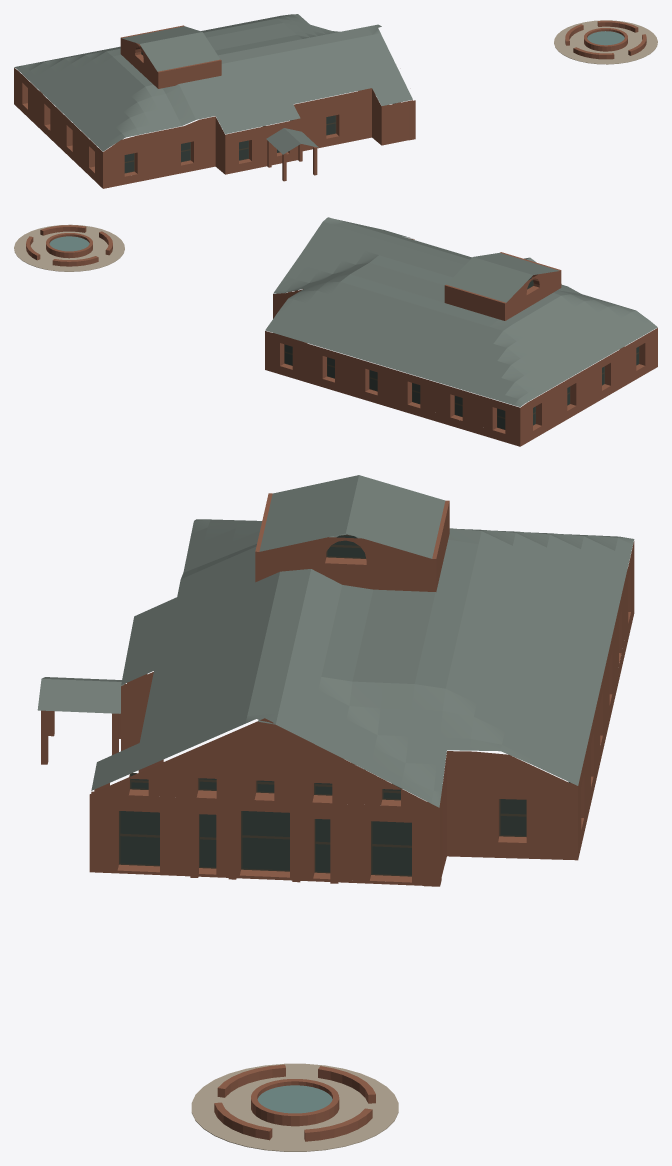
The model's file is goose-creek-municipal-center-far.glb.
The picture shows the model from 3 angles, top to bottom: view 1: azimuth 30°, elevation 25°; view 2: azimuth 150°, elevation 25°; view 3: azimuth 270°, elevation 25°; orthographic projection. The views are drawn at different scales.
Parts seen in each view (by area): view 1: goose-creek-municipal-center-0-roof, goose-creek-municipal-center-0-brick, goose-creek-municipal-center-0-stone, goose-creek-municipal-center-0-glass, goose-creek-municipal-center-0-water; view 2: goose-creek-municipal-center-0-roof, goose-creek-municipal-center-0-brick, goose-creek-municipal-center-0-stone, goose-creek-municipal-center-0-glass, goose-creek-municipal-center-0-water, goose-creek-municipal-center-0-frame; view 3: goose-creek-municipal-center-0-roof, goose-creek-municipal-center-0-brick, goose-creek-municipal-center-0-glass, goose-creek-municipal-center-0-stone, goose-creek-municipal-center-0-frame, goose-creek-municipal-center-0-water.
Part boxes in pixels (x1,y1,x2,y2): goose-creek-municipal-center-0-roof: (14,14,412,154); goose-creek-municipal-center-0-brick: (14,20,646,188); goose-creek-municipal-center-0-stone: (554,20,657,64); goose-creek-municipal-center-0-glass: (124,52,335,172); goose-creek-municipal-center-0-water: (587,31,624,45); goose-creek-municipal-center-0-roof: (265,217,657,406); goose-creek-municipal-center-0-brick: (26,225,657,446); goose-creek-municipal-center-0-stone: (14,224,124,271); goose-creek-municipal-center-0-glass: (285,277,638,429); goose-creek-municipal-center-0-water: (49,236,89,251); goose-creek-municipal-center-0-frame: (284,279,639,429); goose-creek-municipal-center-0-roof: (37,475,634,807); goose-creek-municipal-center-0-brick: (41,493,634,1141); goose-creek-municipal-center-0-glass: (120,535,570,875); goose-creek-municipal-center-0-stone: (191,1063,398,1151); goose-creek-municipal-center-0-frame: (119,534,526,876); goose-creek-municipal-center-0-water: (257,1085,332,1113).
Bounding box in the file's own units: 76.12 × 12.3 × 34.39.
